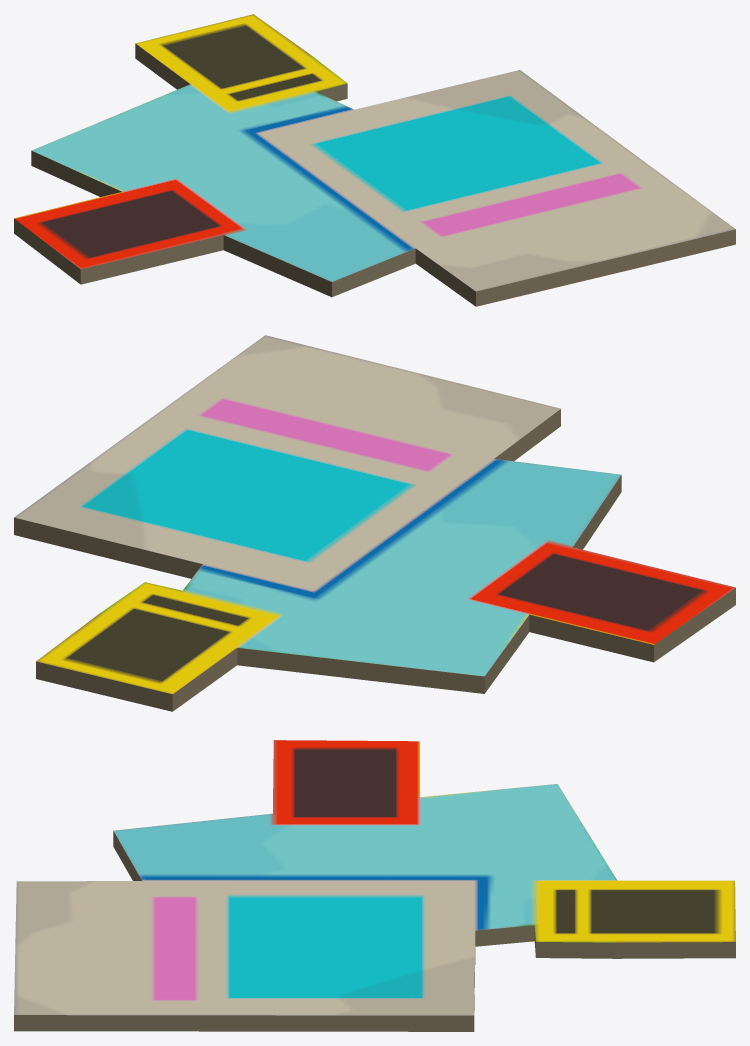
File: SM_Prop_Posters_03.fbx
3 renders of one model, top to bottom at view 1: azimuth 30°, elevation 25°; view 2: azimuth 150°, elevation 25°; view 3: azimuth 270°, elevation 25°, orthographic. The views are drawn at different scales.
Parts seen in each view (by area): view 1: SM_Prop_Posters_03; view 2: SM_Prop_Posters_03; view 3: SM_Prop_Posters_03.
Boxes of the visible parts, x1,y1,x2,y2 form: SM_Prop_Posters_03: (14, 14, 735, 306); SM_Prop_Posters_03: (14, 335, 735, 711); SM_Prop_Posters_03: (14, 740, 735, 1031).
Bounding box in the file's own units: 6054 × 165 × 6699.
